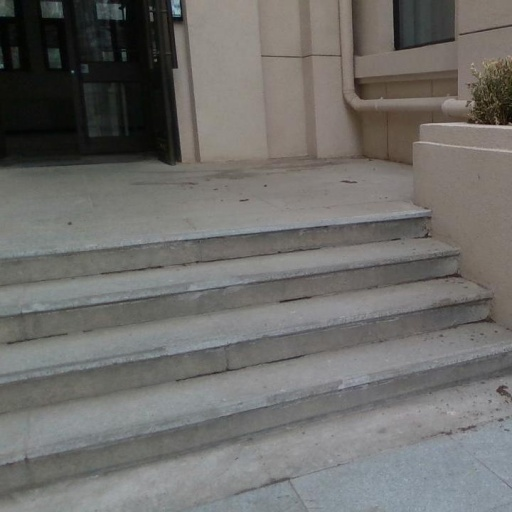Stairs: (0, 211, 512, 512)
